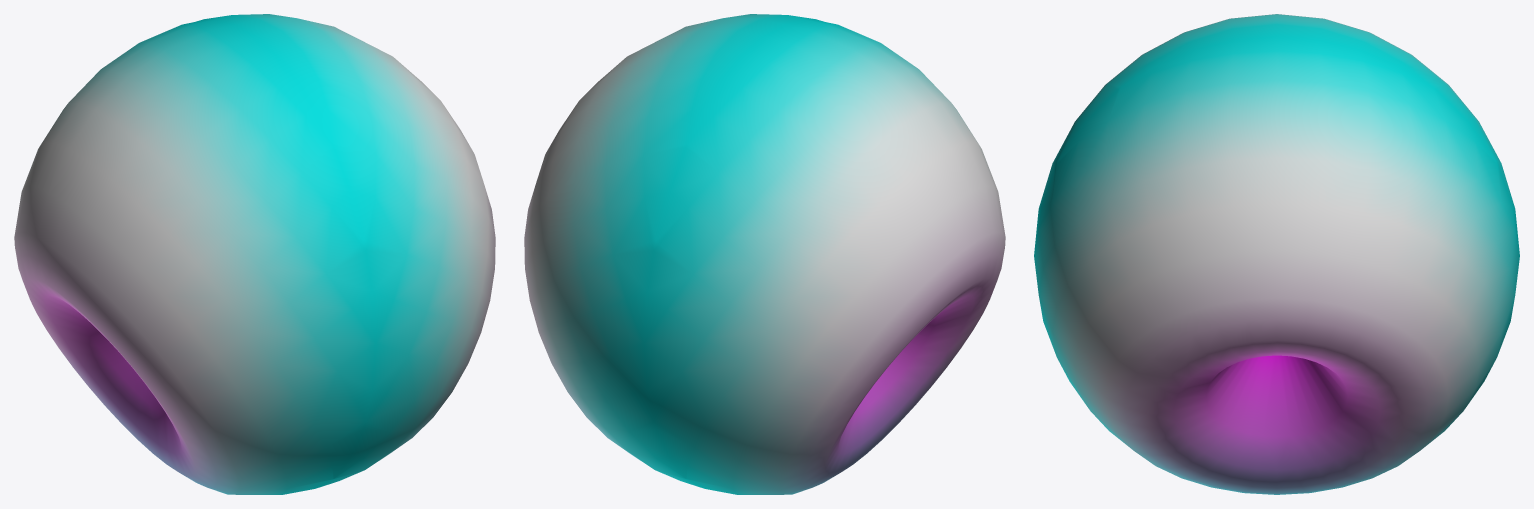
Rendered from SM_Wraith_Drone_ElectroField.fbx.
3 views of the same model, side by side, from view 1: azimuth 30°, elevation 25°; view 2: azimuth 150°, elevation 25°; view 3: azimuth 270°, elevation 25° (orthographic).
Visible parts, largest first — view 1: SM_Wraith_Drone_ElectroField; view 2: SM_Wraith_Drone_ElectroField; view 3: SM_Wraith_Drone_ElectroField.
Boxes of the visible parts, x1,y1,x2,y2 form: SM_Wraith_Drone_ElectroField: [14, 14, 495, 494]; SM_Wraith_Drone_ElectroField: [524, 14, 1005, 494]; SM_Wraith_Drone_ElectroField: [1034, 14, 1519, 494].
Bounding box in the file's own units: 38.73 × 40 × 39.89.
